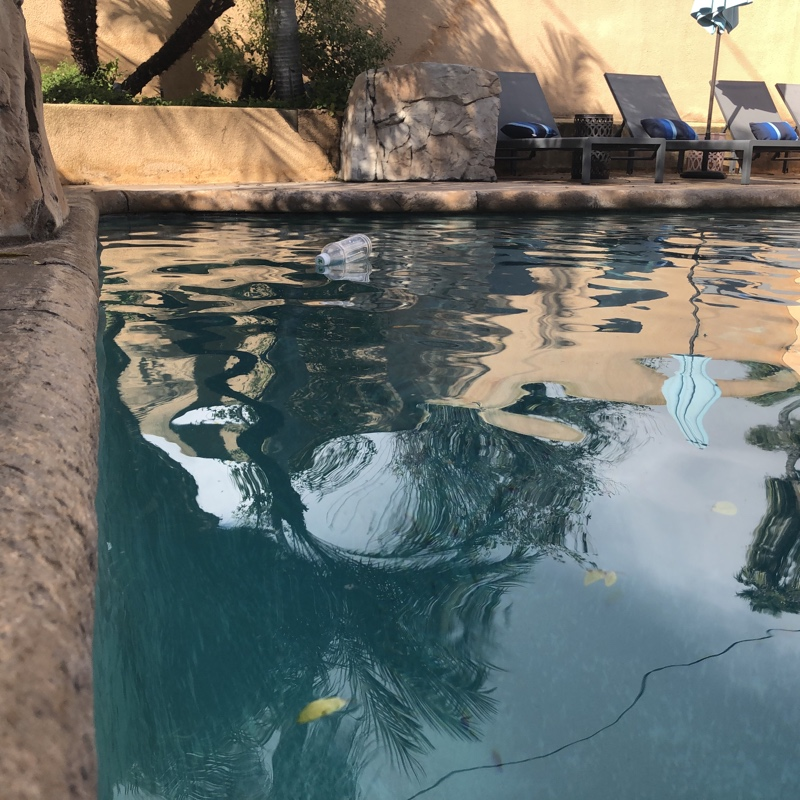Plastic Bottle: (314, 232, 374, 269)
